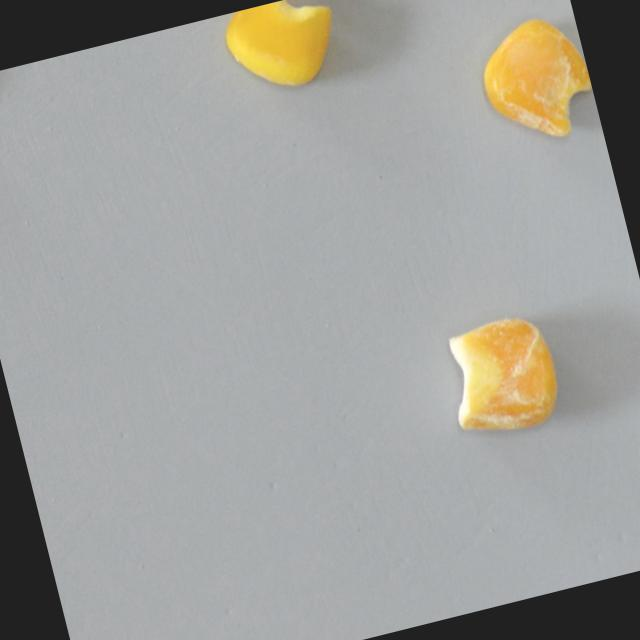no_canjicado: (218, 0, 349, 101)
pelicula: (470, 9, 602, 153), (435, 305, 570, 443)
